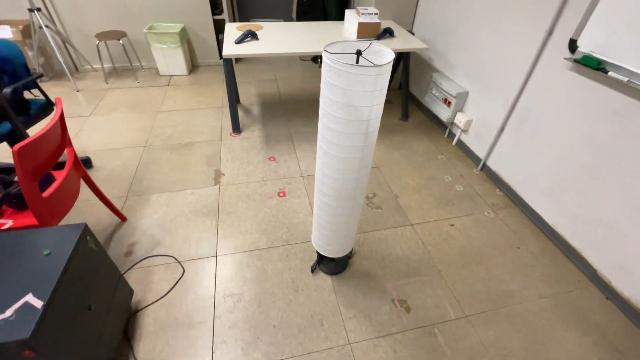Chair: (0, 95, 128, 237)
Lamp: (307, 37, 397, 281)
Stool: (92, 27, 146, 85)
